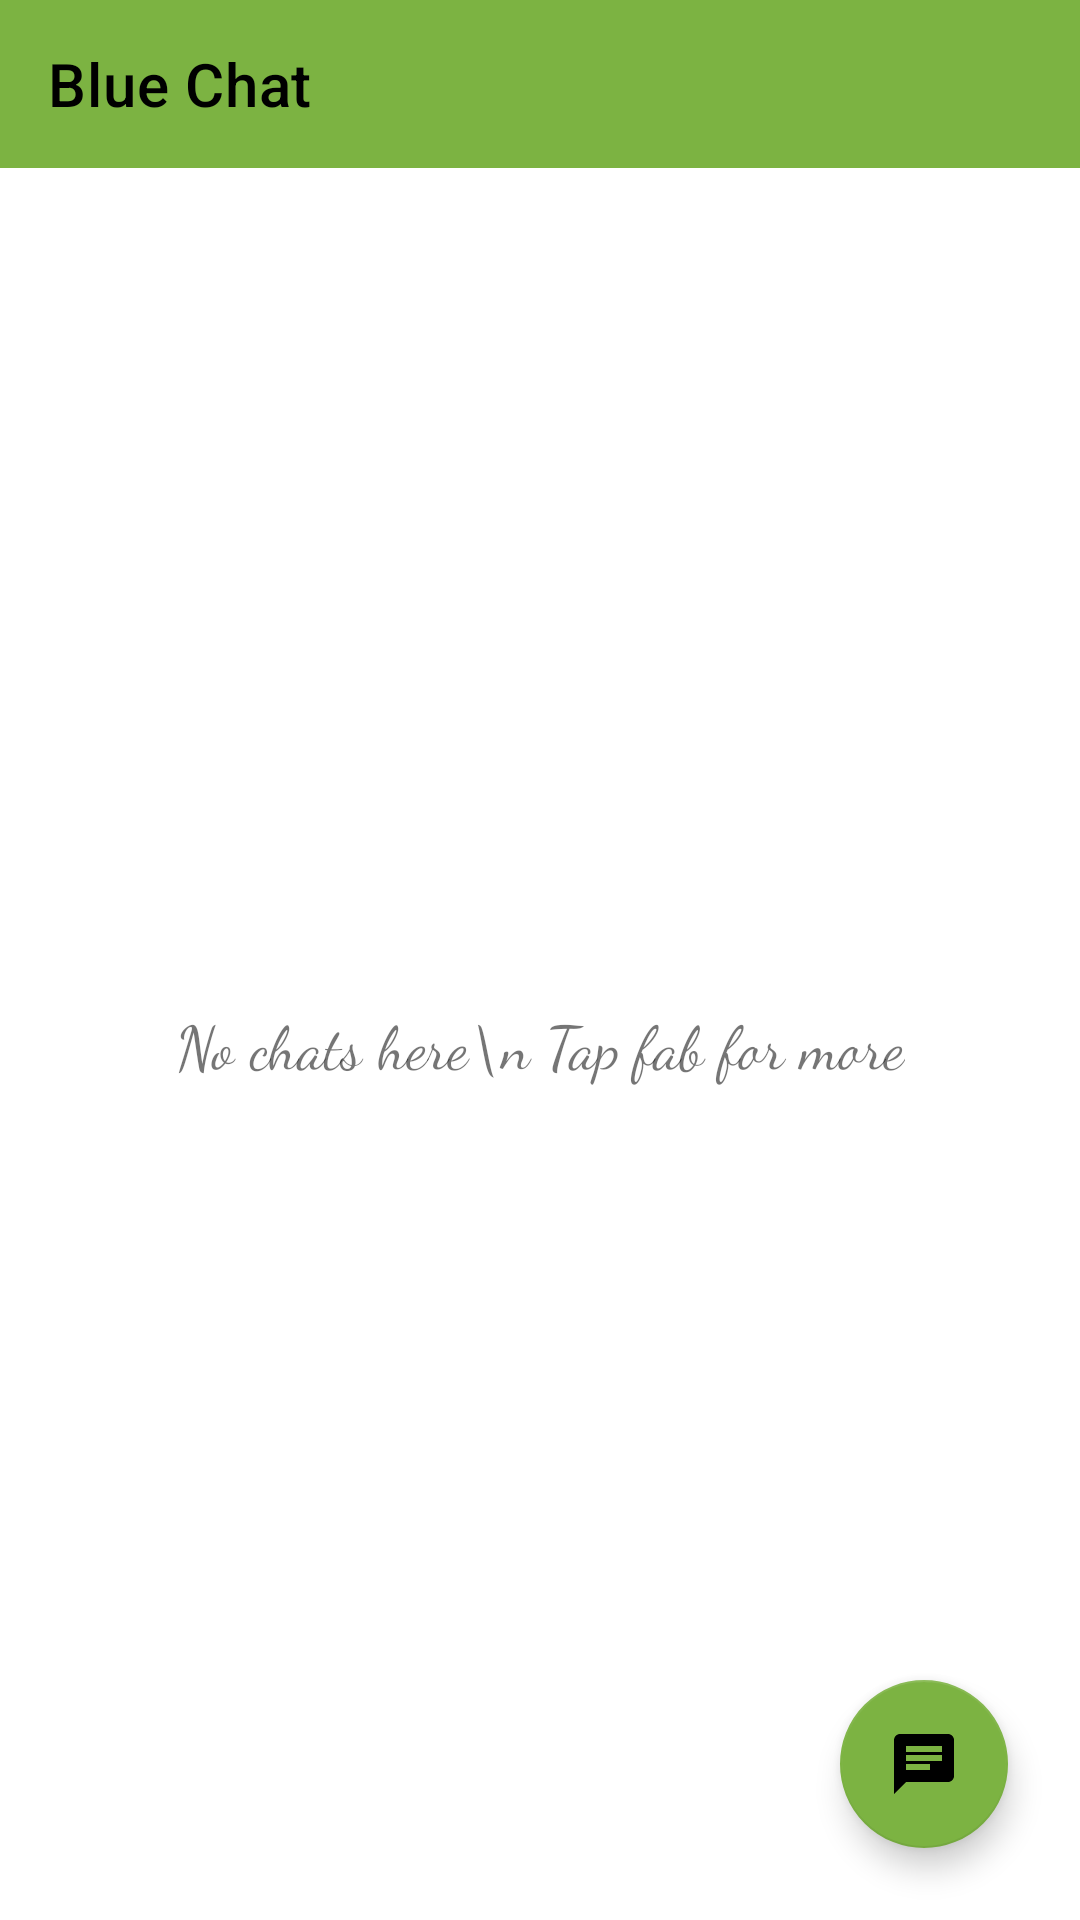

Point at icon controls on the screen. Image size 1080×1920, points as point (x, y).
Fab Chat: point (924, 1764)
